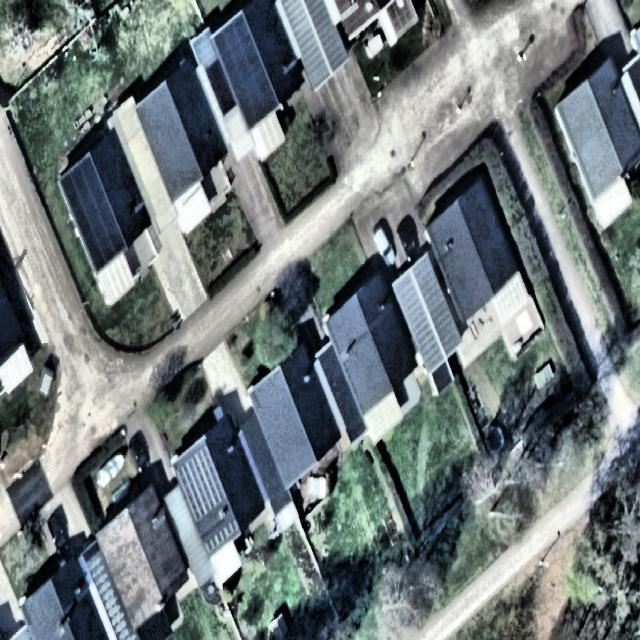roof_pv: (70, 210, 124, 277), (225, 72, 280, 132), (215, 14, 266, 72), (60, 156, 115, 209), (179, 447, 222, 484), (204, 518, 240, 556), (184, 483, 222, 518)
